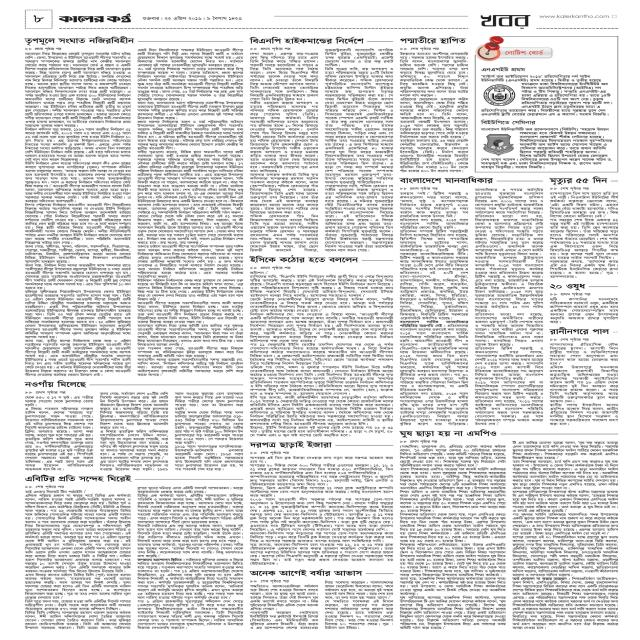image: (482, 134, 515, 155), (477, 36, 502, 60), (485, 85, 512, 104)
page number: (30, 14, 47, 25)
paragraph: (135, 150, 244, 245), (23, 492, 131, 573), (23, 51, 132, 127), (324, 66, 394, 183), (473, 186, 544, 281), (479, 126, 614, 170), (512, 577, 620, 631), (248, 497, 394, 534), (480, 74, 613, 113), (23, 290, 131, 338), (398, 321, 470, 391), (249, 101, 319, 172), (398, 98, 470, 167), (399, 467, 507, 512), (324, 185, 394, 252), (250, 394, 394, 426), (24, 406, 95, 470), (23, 161, 131, 203), (23, 203, 131, 244), (248, 312, 394, 342), (249, 365, 394, 395), (136, 558, 242, 599), (548, 217, 619, 278), (511, 537, 619, 577), (22, 338, 131, 377), (248, 538, 395, 566), (473, 255, 544, 311), (399, 595, 507, 630), (23, 127, 131, 161), (399, 542, 507, 576), (136, 67, 244, 101), (250, 273, 395, 298), (398, 228, 469, 278), (136, 245, 243, 278), (249, 51, 319, 100), (397, 511, 507, 542), (247, 342, 395, 365), (398, 51, 470, 97), (511, 459, 620, 489), (135, 600, 243, 630), (248, 464, 395, 486), (474, 380, 544, 426), (136, 120, 244, 149), (136, 494, 243, 523), (399, 277, 469, 320), (23, 572, 131, 599), (249, 173, 319, 214), (23, 263, 131, 289), (511, 512, 618, 536), (548, 366, 619, 402), (249, 215, 320, 251), (99, 391, 169, 427), (398, 444, 506, 467), (324, 594, 393, 630), (399, 392, 469, 426), (511, 490, 618, 512), (136, 301, 243, 323), (136, 279, 243, 301), (135, 324, 242, 346), (474, 313, 543, 347), (174, 411, 244, 443), (474, 348, 544, 380), (136, 47, 244, 67), (399, 190, 468, 221), (136, 524, 244, 543), (23, 611, 131, 630), (399, 576, 507, 595), (512, 440, 619, 459), (99, 430, 169, 459), (136, 359, 243, 377), (24, 245, 130, 263), (137, 101, 243, 119), (248, 299, 394, 312), (548, 191, 618, 218), (548, 297, 619, 323), (250, 584, 319, 610), (548, 403, 619, 426), (548, 342, 620, 364), (172, 449, 243, 471), (250, 427, 392, 438), (135, 346, 244, 359), (249, 611, 319, 631), (137, 544, 244, 557), (323, 48, 394, 67), (248, 486, 395, 495), (23, 599, 131, 611), (251, 455, 392, 464), (174, 392, 244, 410), (324, 581, 393, 599), (137, 485, 242, 493), (100, 460, 169, 472), (25, 396, 95, 406), (248, 266, 291, 273), (250, 46, 292, 51), (401, 46, 442, 51)
text: (142, 15, 244, 22), (540, 14, 623, 19), (481, 119, 535, 126), (503, 49, 548, 56), (481, 67, 526, 72), (250, 46, 293, 51), (550, 337, 590, 342), (401, 46, 441, 51), (399, 439, 438, 444), (25, 46, 61, 51), (250, 579, 291, 583), (26, 485, 67, 489), (549, 293, 594, 296), (249, 452, 291, 455)
title: (247, 35, 366, 45), (248, 568, 367, 578), (22, 35, 134, 45), (248, 255, 361, 264), (22, 474, 133, 483), (396, 175, 494, 185), (398, 429, 499, 438), (59, 13, 132, 25), (478, 12, 529, 29), (251, 440, 332, 450), (399, 35, 467, 45), (548, 326, 615, 336), (22, 380, 87, 388), (548, 176, 612, 184), (548, 282, 588, 290)
